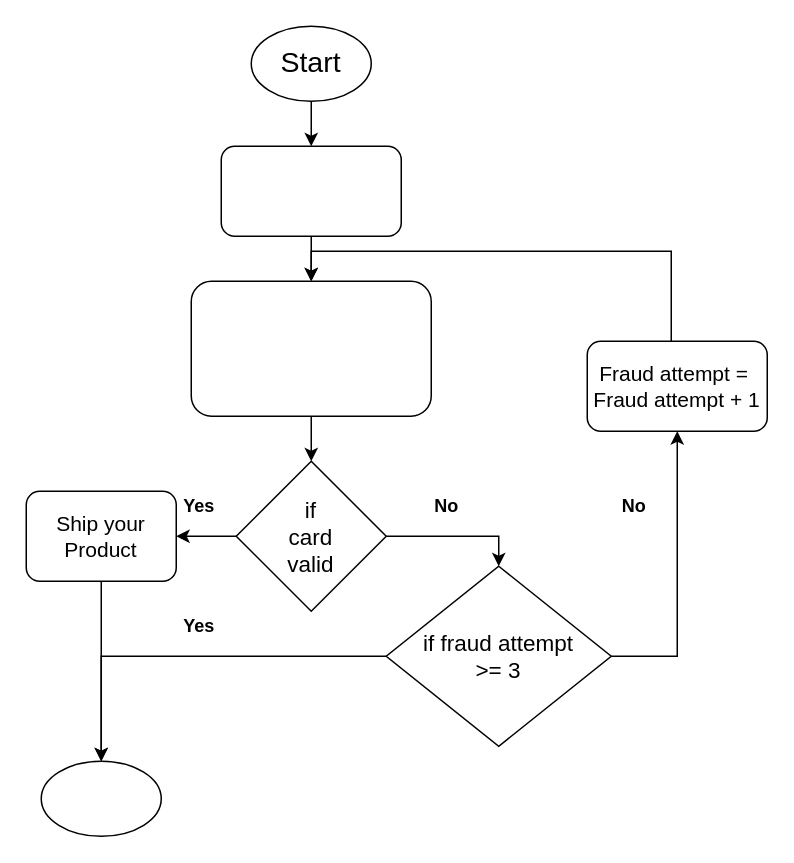
Some shapes in this 794 by 863 pixel diagram are drawn without their labels. The box of each missing label's shape, as (x1, y1, x2, y2) in pixels:
Fraud attempt = 0: (220, 145, 401, 236)
Get Credit Card Details Card_Num, Card_Expiry, Card_CVV: (190, 280, 431, 416)
Stop: (40, 760, 161, 836)
